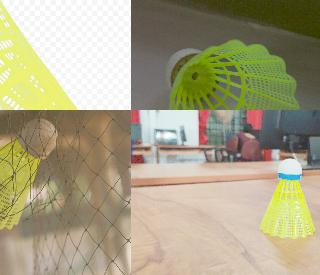shuttlecock: (0, 0, 130, 109), (166, 39, 299, 109), (0, 119, 57, 229), (260, 158, 314, 238)
